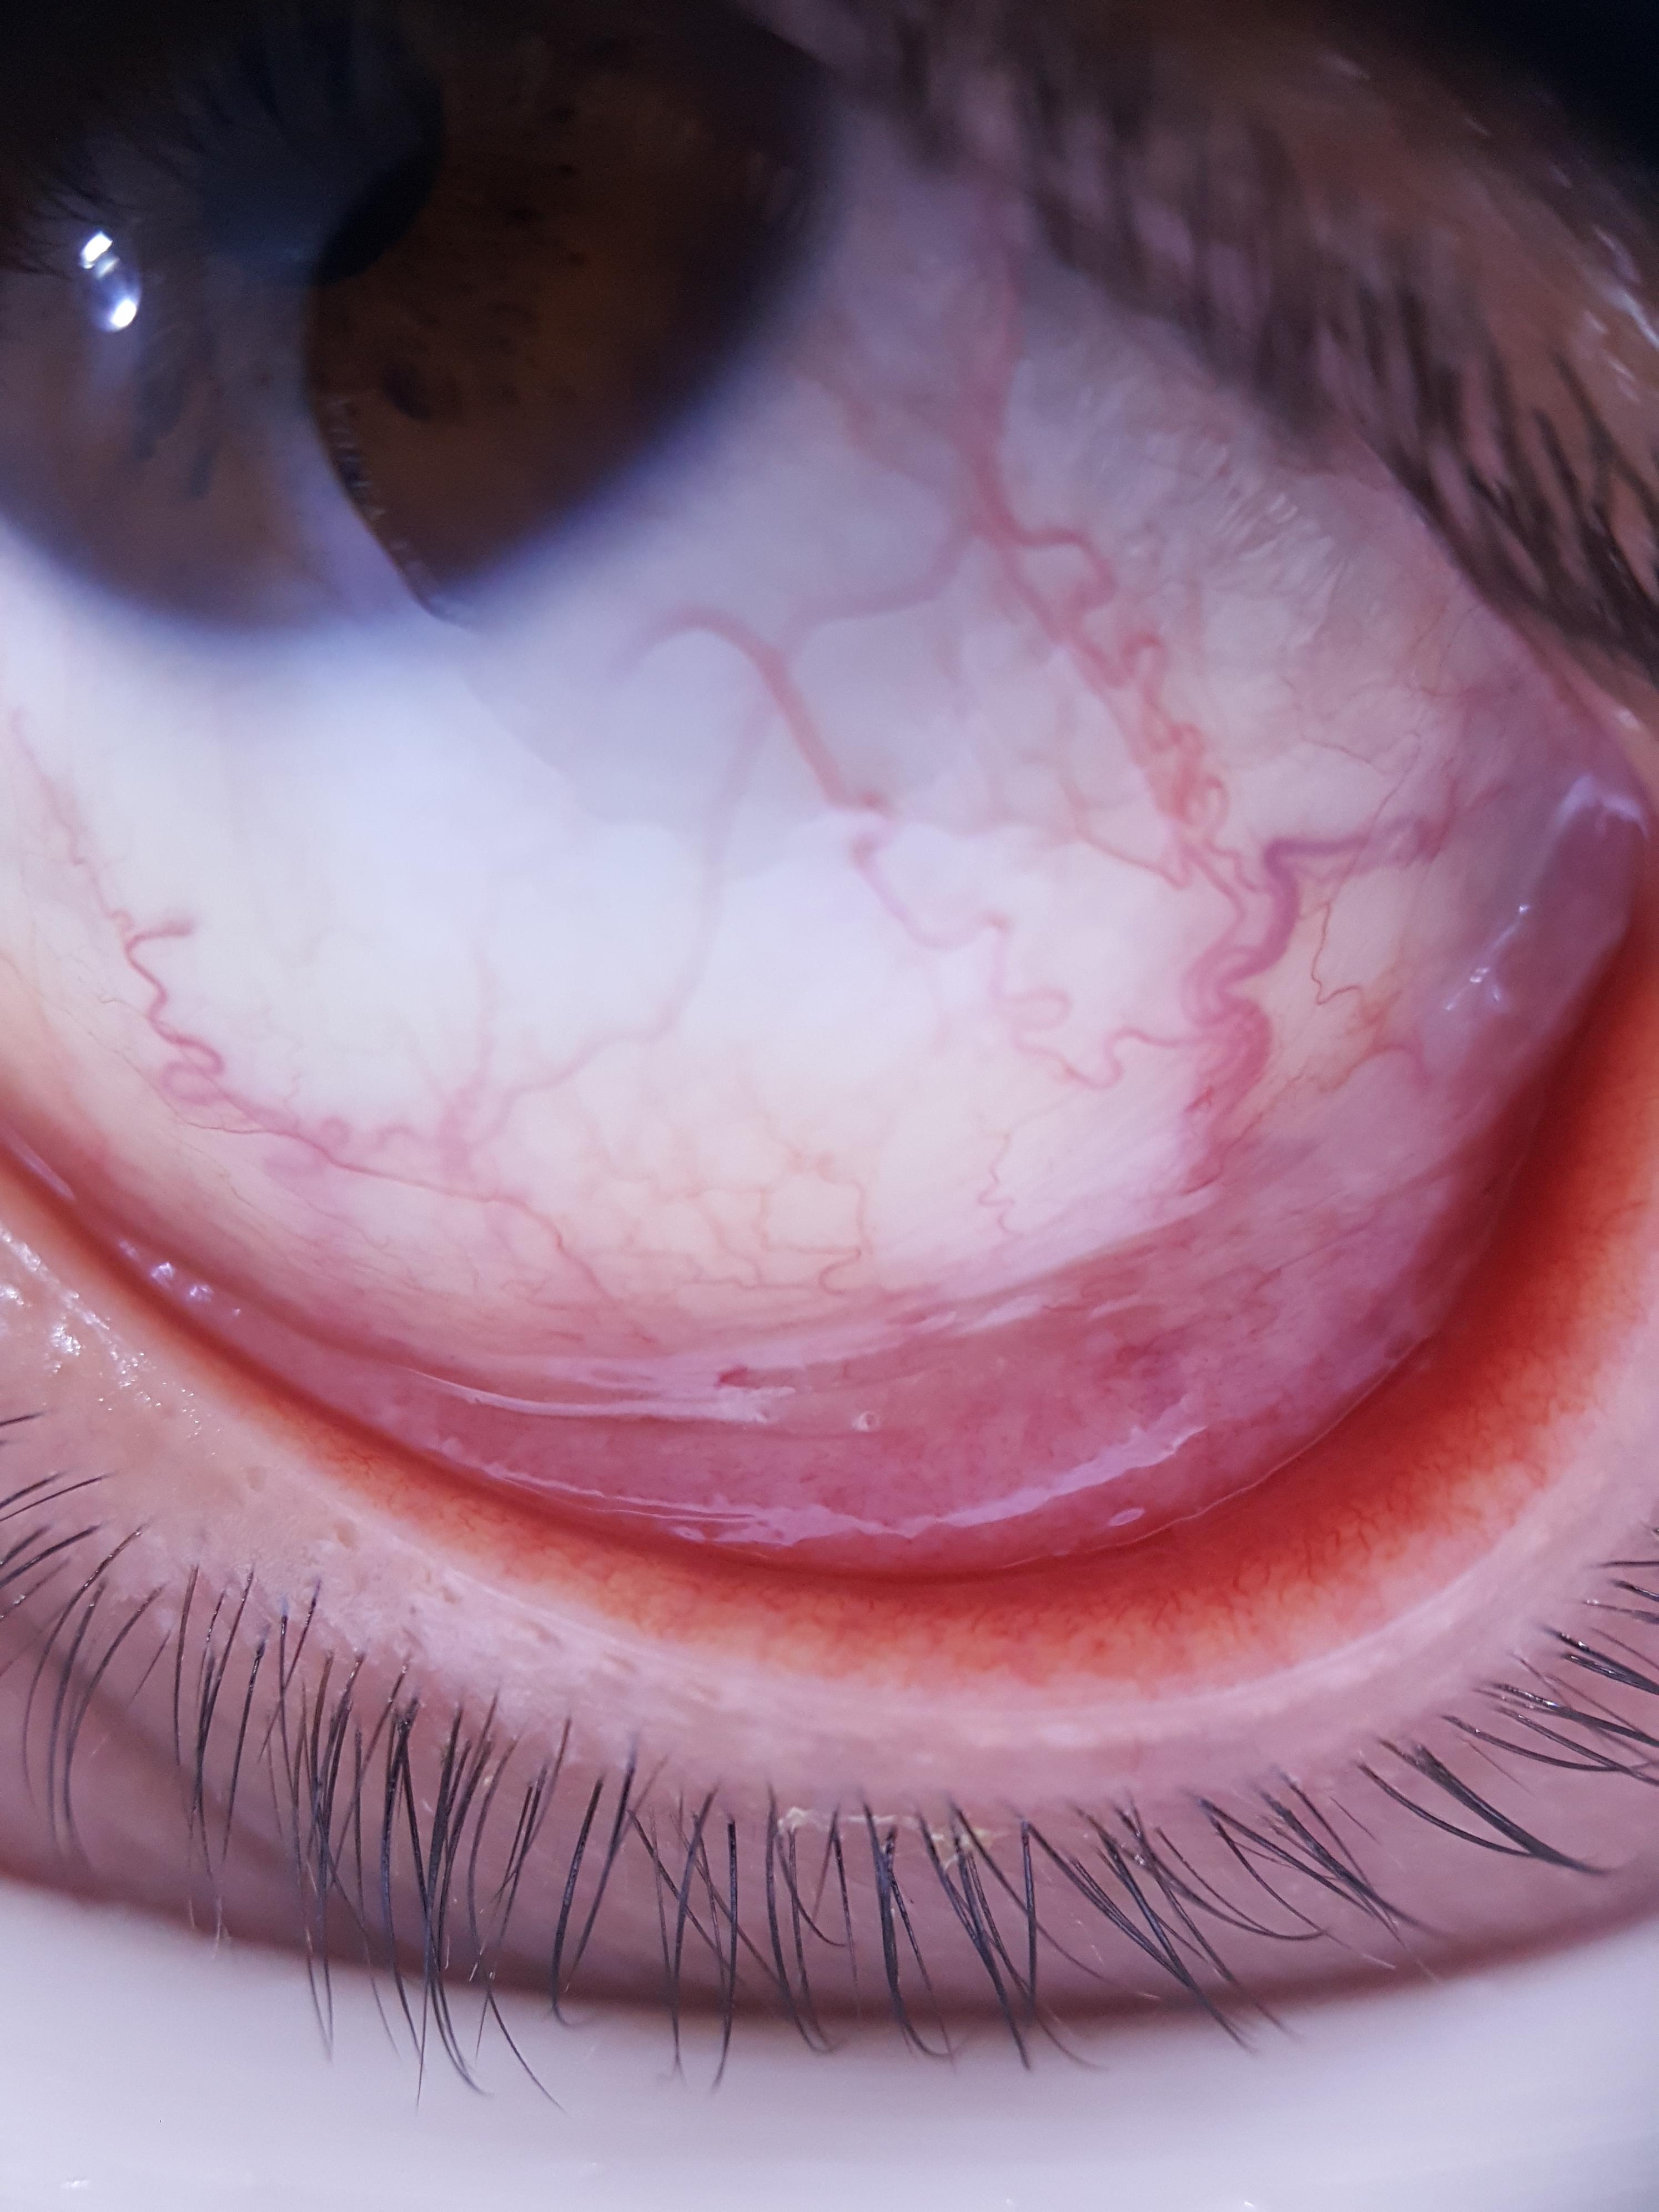forniceal: (0, 730, 1643, 1573)
forniceal_palpebral: (0, 709, 1659, 1674)
palpebral: (0, 798, 1659, 1665)
